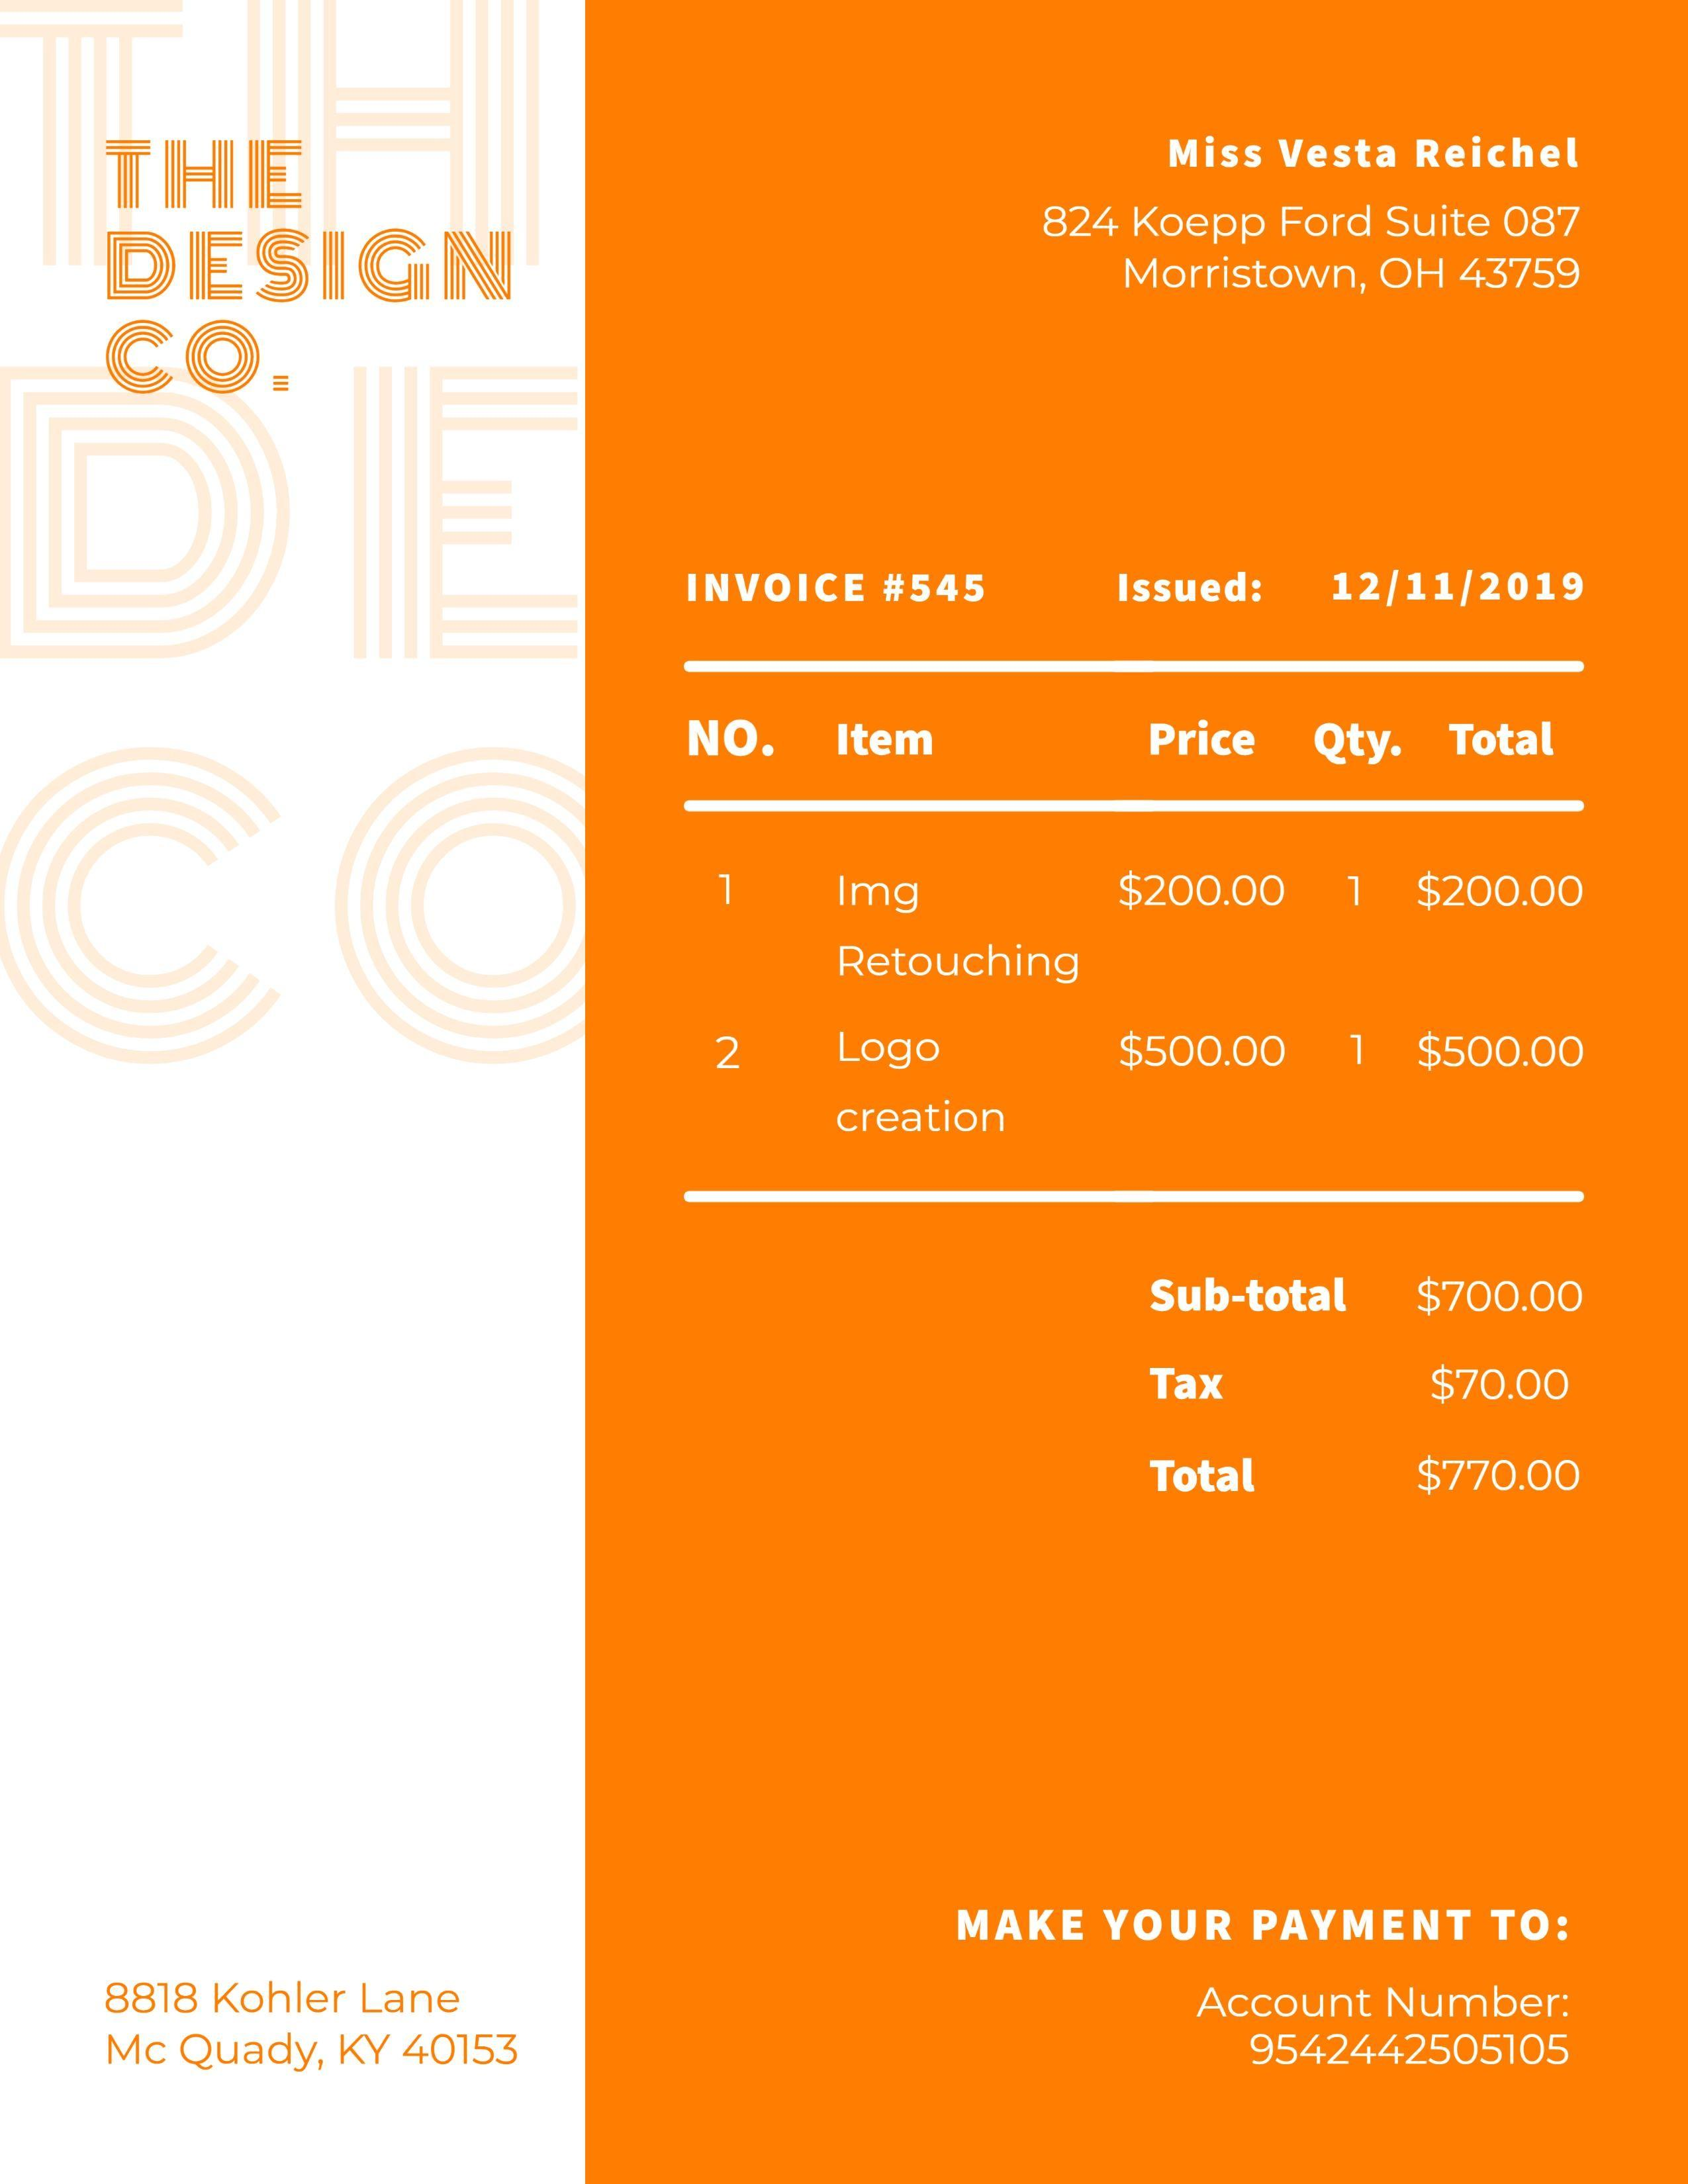ROI: (688, 663, 1619, 1179), (941, 1894, 1602, 2099), (96, 130, 539, 418), (1137, 1265, 1591, 1500), (1031, 125, 1595, 314), (666, 549, 1602, 623)
